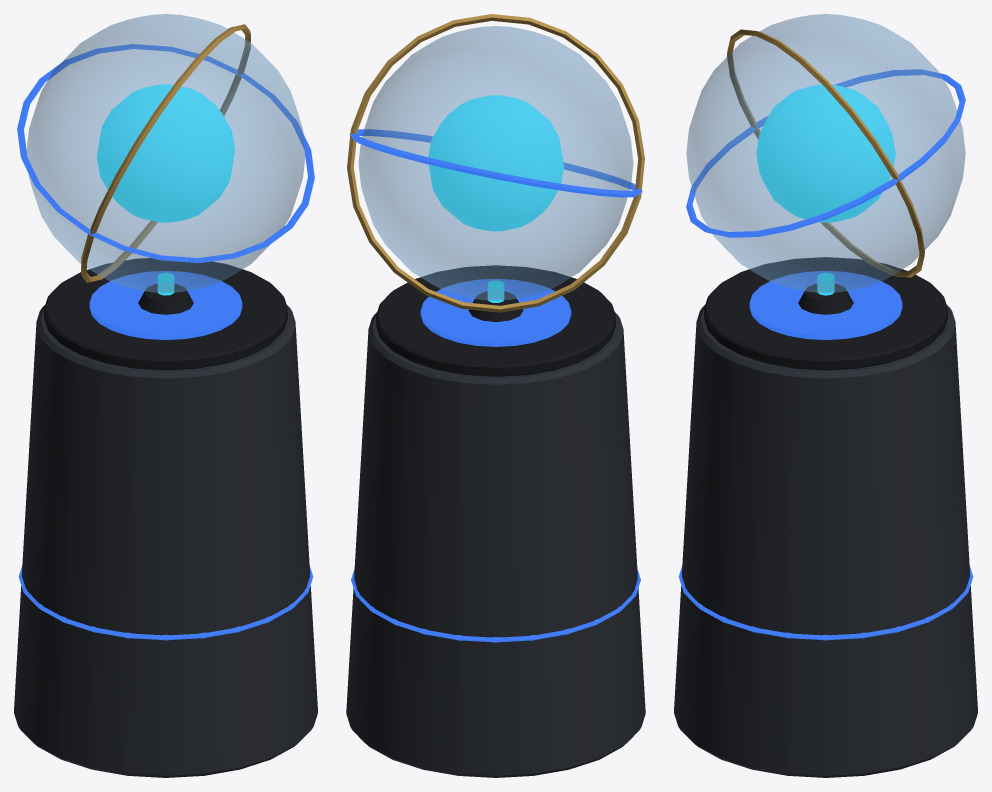
The model's file is holo_star_map_globe.glb.
The picture shows the model from 3 angles, left to right: view 1: azimuth 30°, elevation 25°; view 2: azimuth 150°, elevation 25°; view 3: azimuth 270°, elevation 25°; orthographic projection.
Visible parts, largest first — view 1: holo_star_map_globe; view 2: holo_star_map_globe; view 3: holo_star_map_globe.
Part boxes in pixels (x1,y1,x2,y2): holo_star_map_globe: [14, 14, 317, 777]; holo_star_map_globe: [346, 14, 645, 777]; holo_star_map_globe: [674, 14, 977, 777].
Bounding box in the file's own units: 0.6963 × 1.74 × 0.6963.
